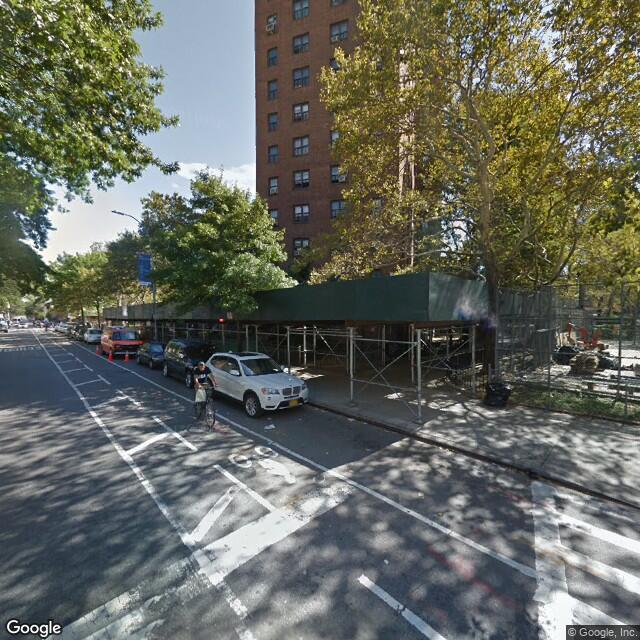litter: (263, 418, 280, 432)
